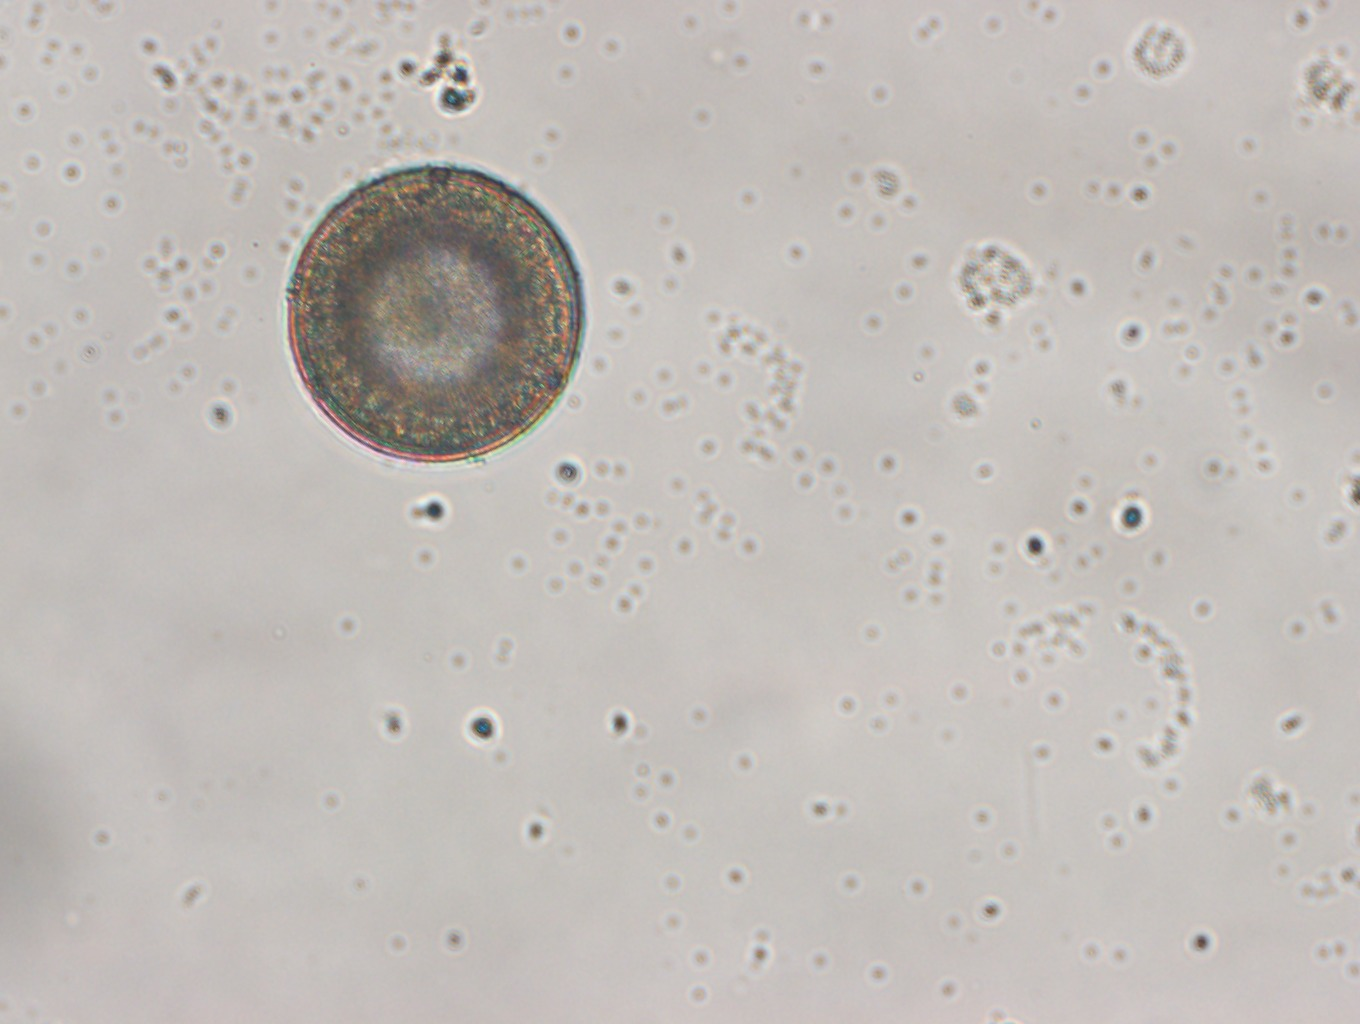coscinodiscus: (283, 161, 585, 466)
